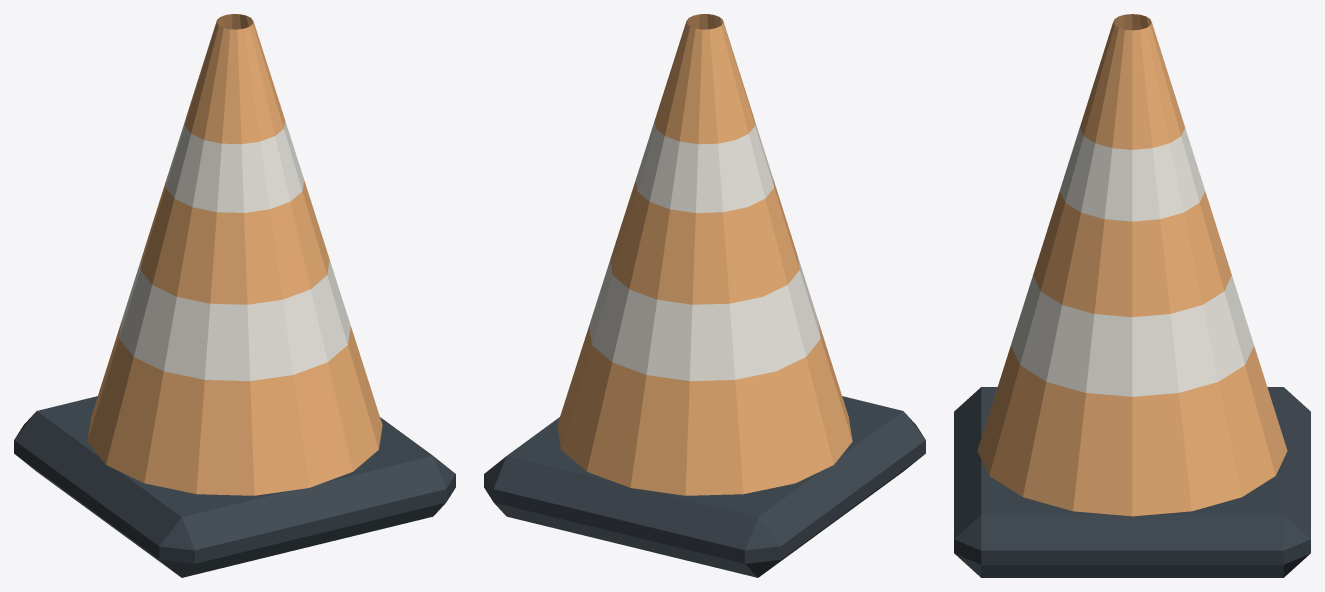
3 views of the same model, side by side, from view 1: azimuth 30°, elevation 25°; view 2: azimuth 150°, elevation 25°; view 3: azimuth 270°, elevation 25° (orthographic). The views are drawn at different scales.
Visible parts, largest first — view 1: Body.010; view 2: Body.010; view 3: Body.010.
Boxes of the visible parts, x1,y1,x2,y2 form: Body.010: (14, 14, 455, 577); Body.010: (484, 14, 925, 577); Body.010: (954, 14, 1310, 577).
Size of the model in its own units: 0.46 by 0.7 by 0.46.
